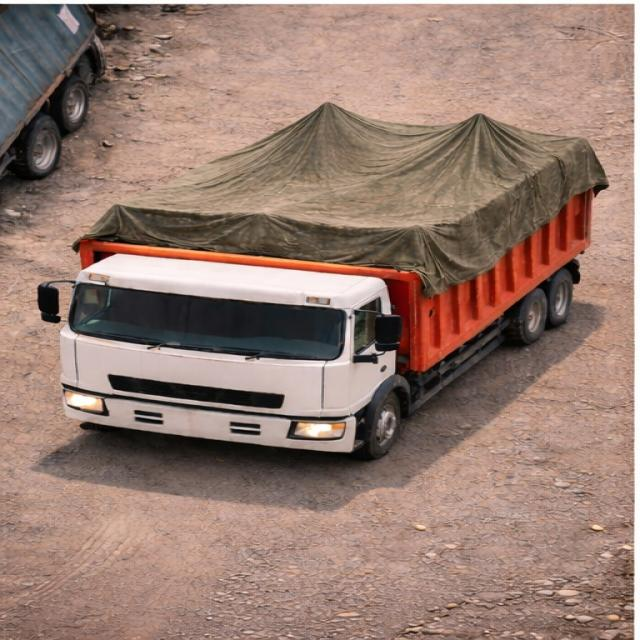Box: (84, 103, 598, 247)
Truck: (32, 81, 620, 450)
